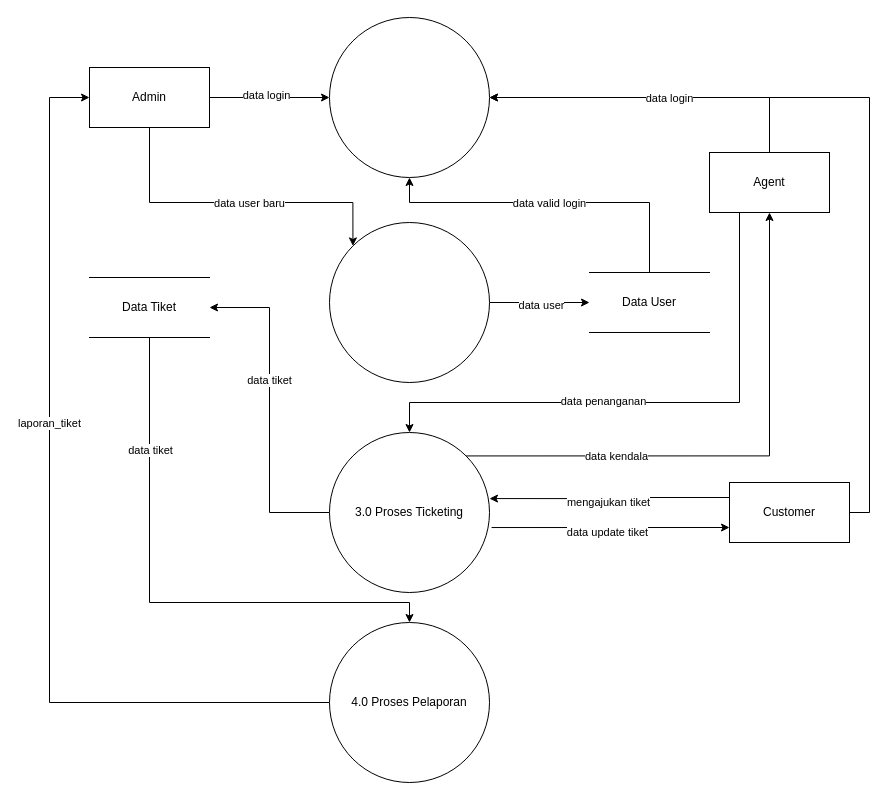
The diagram is 895 pixels wide and 800 high, and some of its shapes have lost their labels. Each missing label, with the centre of its shape:
"1.0 Proses login" belongs at [409,97].
"2.0 Proses User Management" belongs at [409,302].
